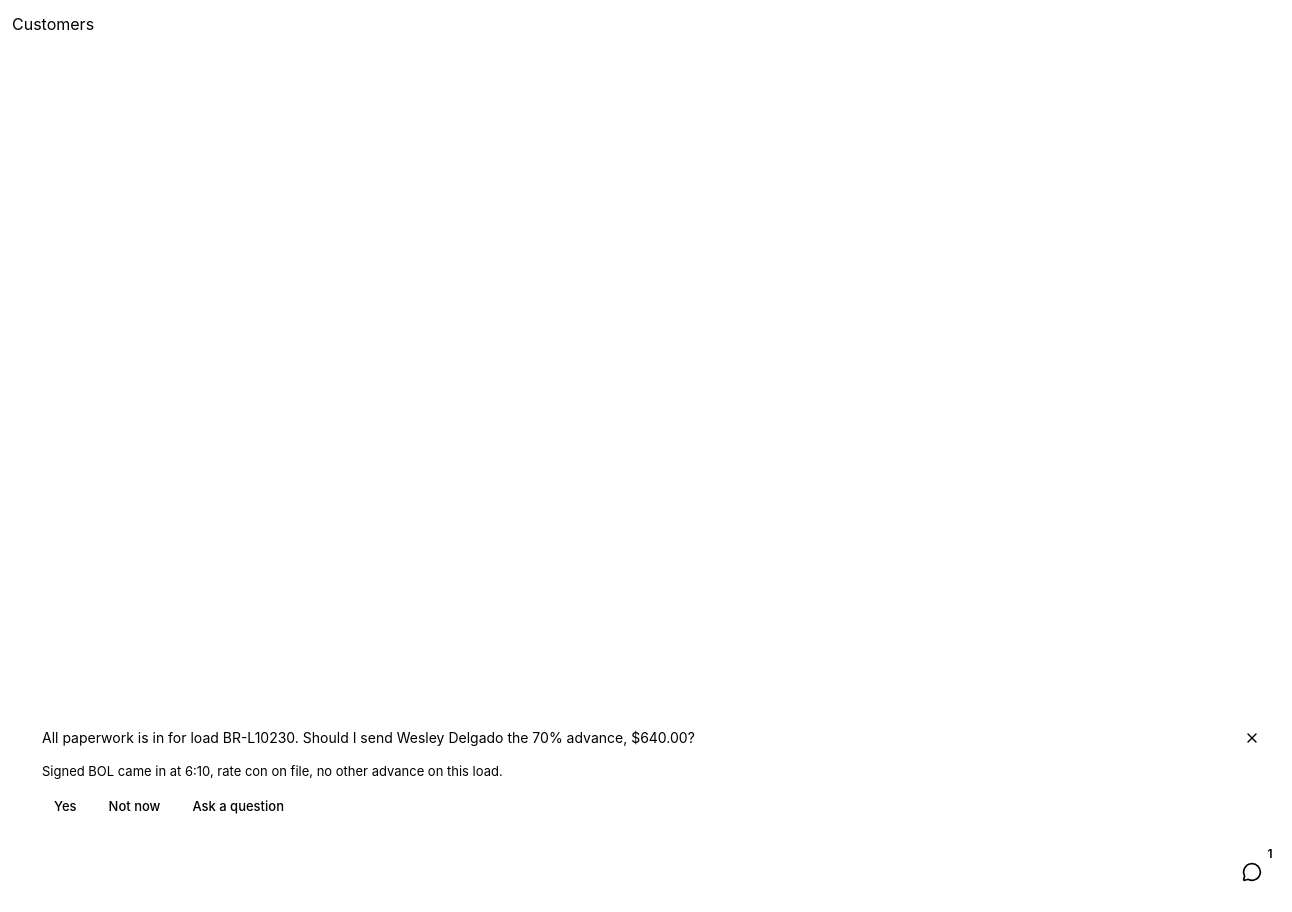
Test: the agent's questions on the launcher › shows a fixed line, never the server's text, when Yes does not go through
Click the button "Yes" at (65, 806), box [42,790,89,822]
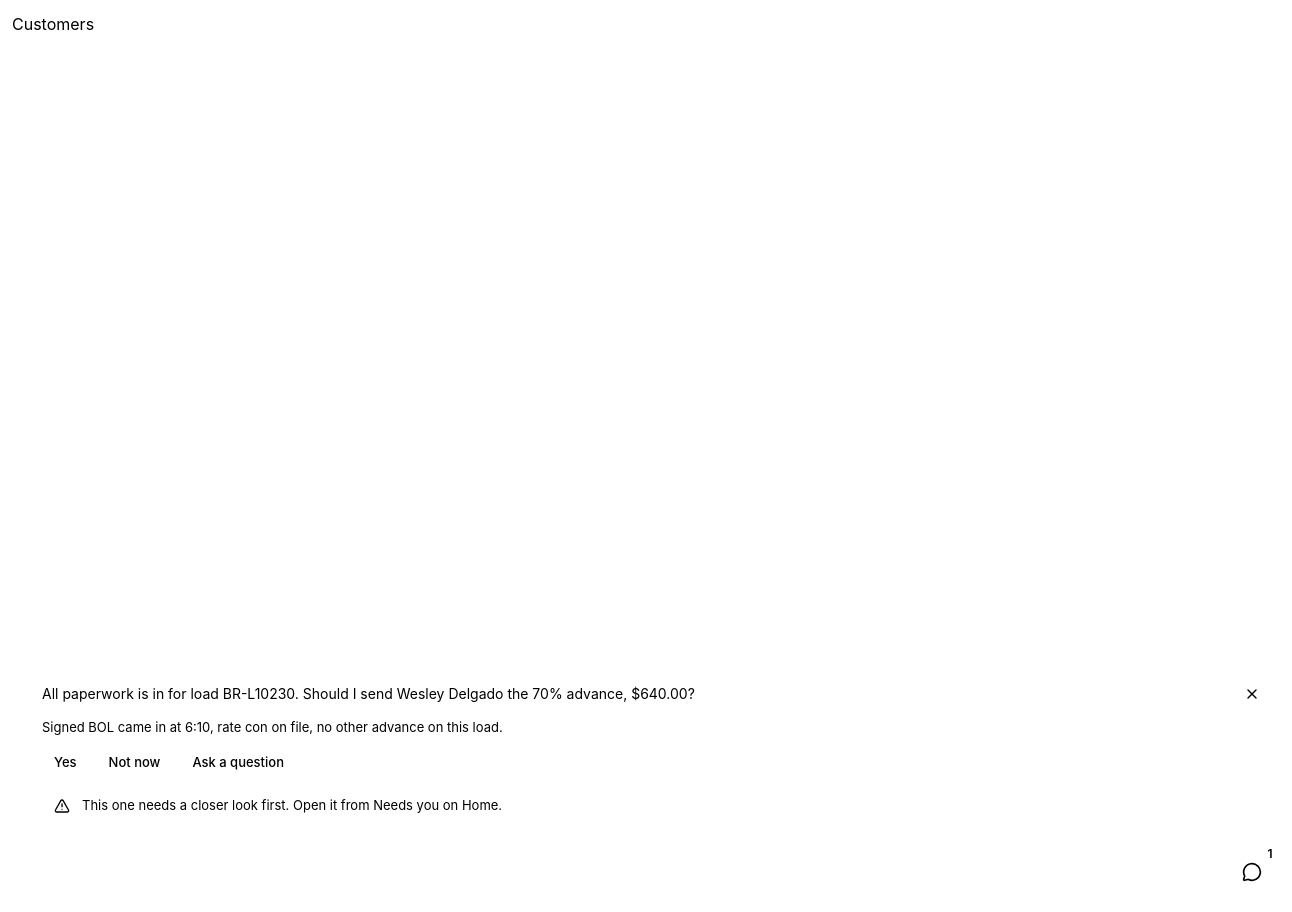
Check: the button "Yes" is shown, box [42,746,89,778]
Check: the text "This one needs a closer look first. Open it from Needs you on Home." is shown, box [82,797,502,813]
